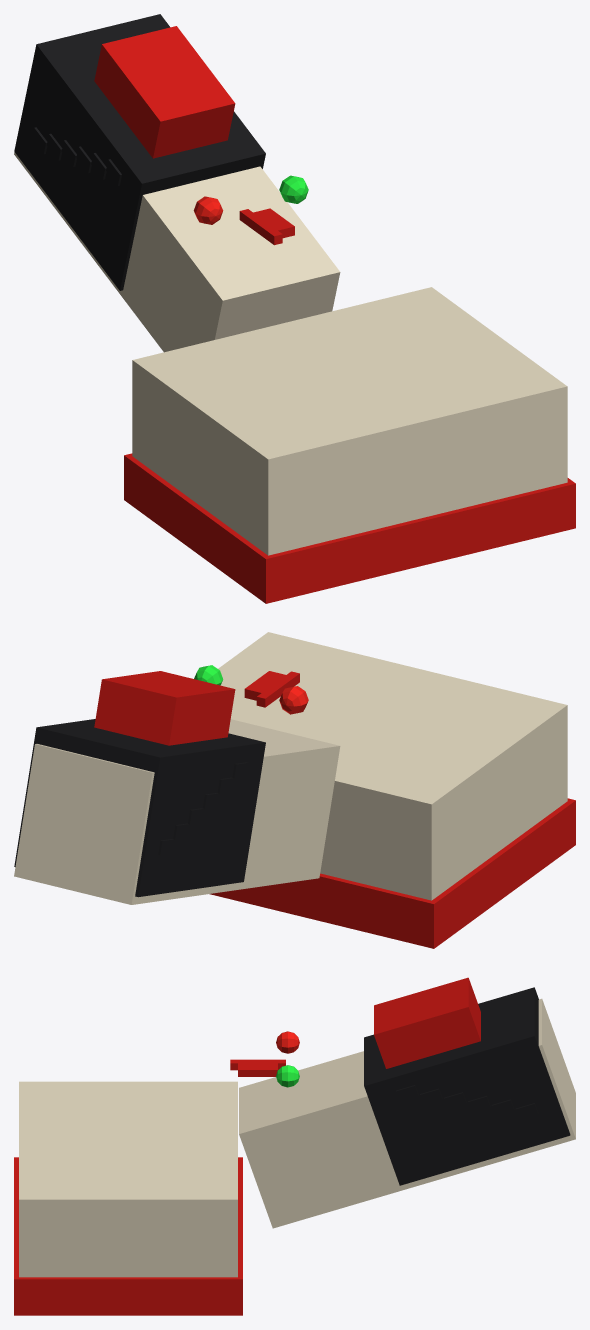
File: MiniVan_Defib_Tube.obj
The picture shows the model from 3 angles, top to bottom: view 1: azimuth 30°, elevation 25°; view 2: azimuth 150°, elevation 25°; view 3: azimuth 270°, elevation 25°; orthographic projection. The views are drawn at different scales.
Parts seen in each view (by area): view 1: Defib_Tube; view 2: Defib_Tube; view 3: Defib_Tube.
Boxes of the visible parts, x1,y1,x2,y2 form: Defib_Tube: (14,14,575,603); Defib_Tube: (14,632,575,948); Defib_Tube: (14,977,575,1315).
Size of the model in its own units: 0.145 by 0.1512 by 0.2821.
